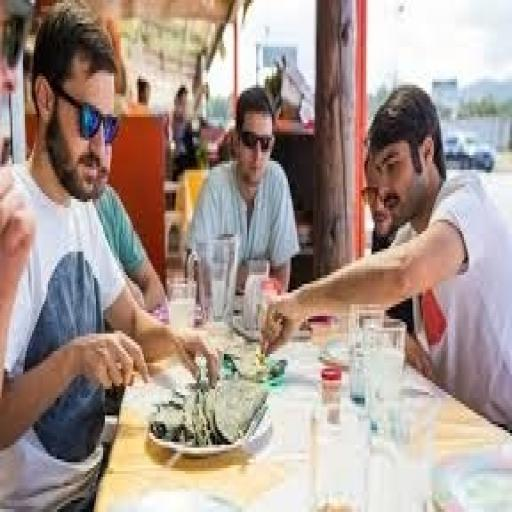eating: (0, 0, 220, 509), (258, 79, 510, 433), (183, 82, 301, 301)
